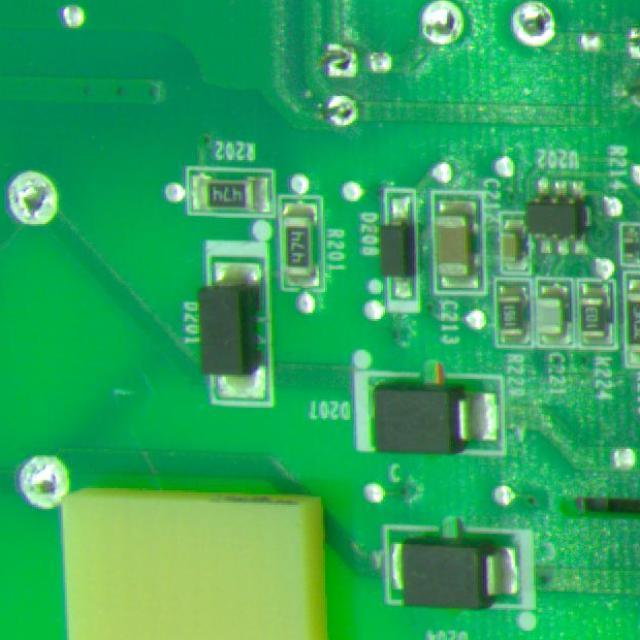Insufficient solder: (1, 152, 68, 232), (10, 448, 74, 524), (416, 0, 474, 53), (506, 0, 560, 56), (314, 37, 362, 85), (317, 88, 362, 134)
